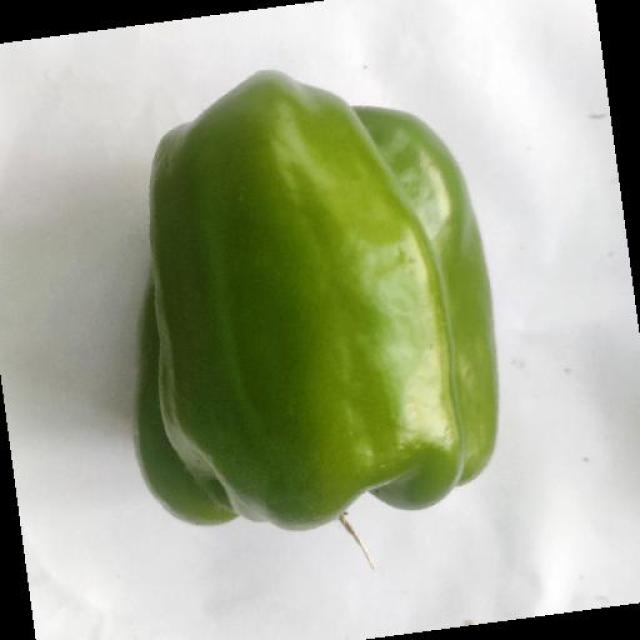Fresh_Capsicum: (139, 74, 506, 528)
